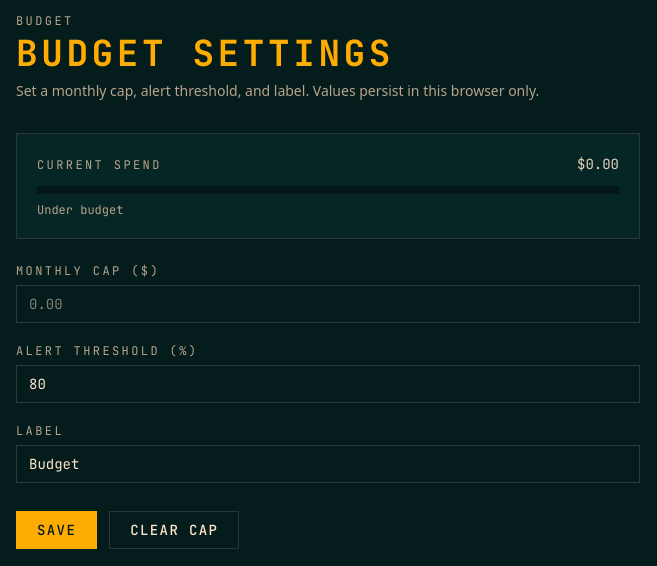
Test: BudgetSettingsPage — save and clear interactions › saves cap, threshold, and label to localStorage on Save
Type "50.00" into the number field labelled "Monthly cap ($)". click: (328, 304)
box: [16,285,640,323]
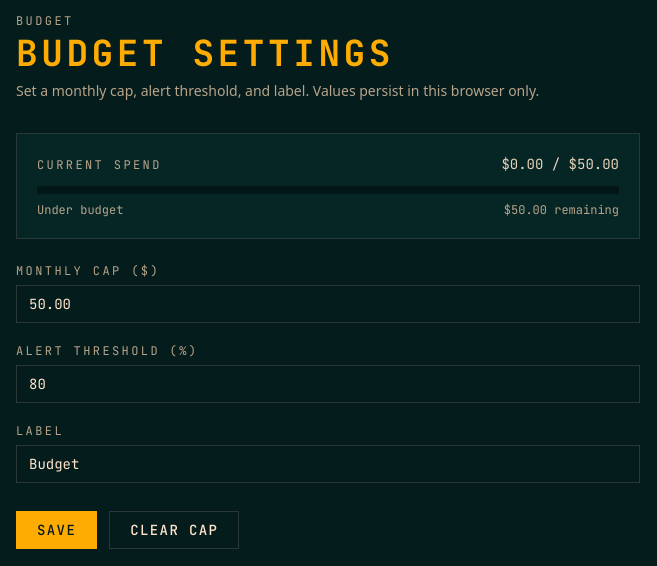
Type "75" into the number field labelled "Alert threshold (%)". click: (328, 384)
box: [16,365,640,403]
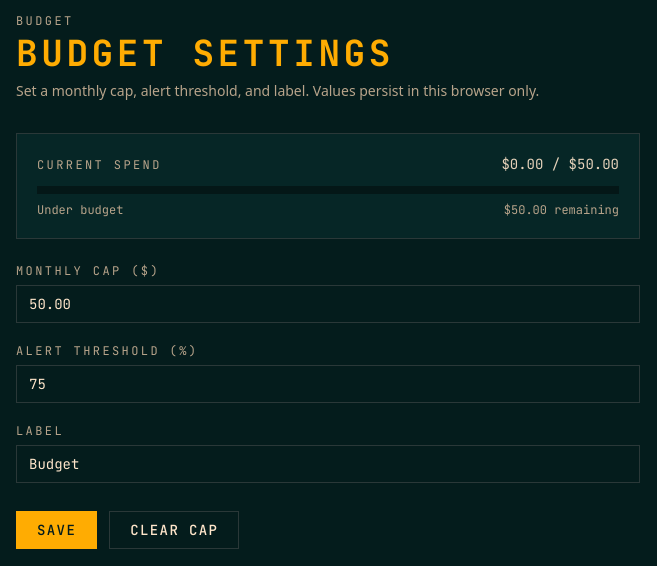
Replace the text in the field labelled "Label" with "Monthly budget". click: (328, 464)
box: [16,445,640,483]
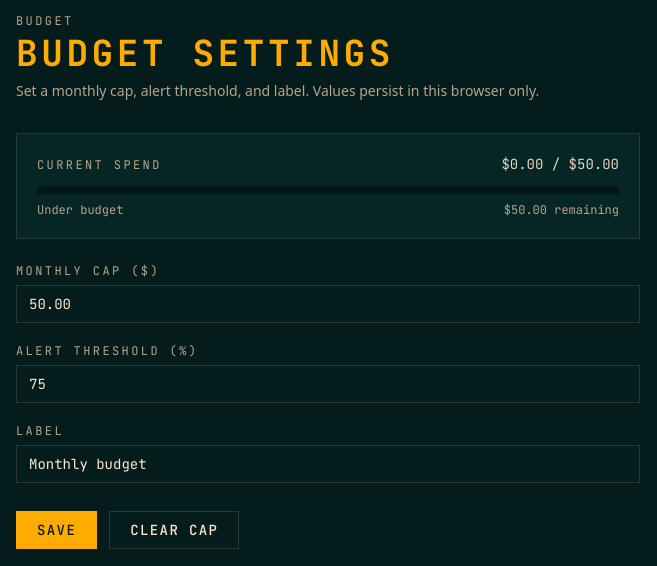
Click the button "Save". click: (57, 530)
box: [16,511,97,549]
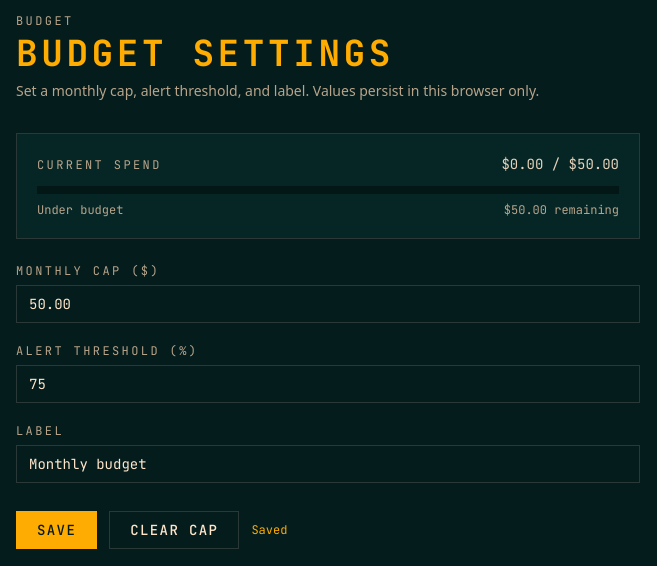
Now the text "Saved" is shown, box [251,522,287,538]
